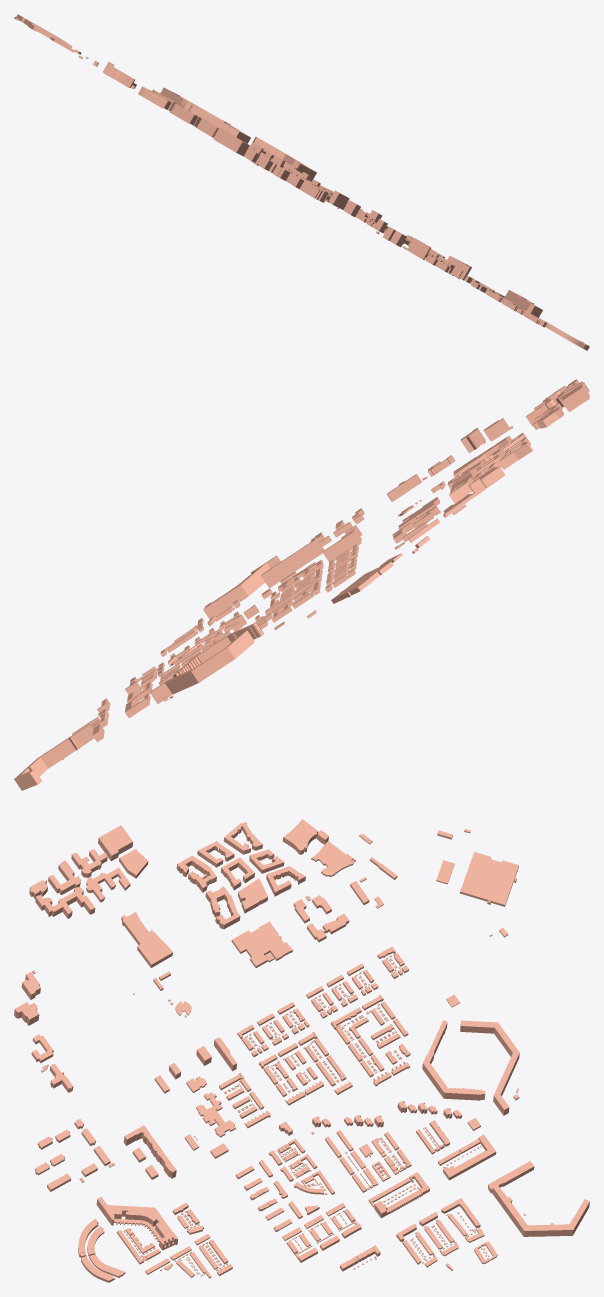
The picture shows the model from 3 angles, top to bottom: view 1: azimuth 30°, elevation 25°; view 2: azimuth 150°, elevation 25°; view 3: azimuth 270°, elevation 25°; orthographic projection. The views are drawn at different scales.
Bounding box in the file's own units: 1030 × 777 × 1394.
